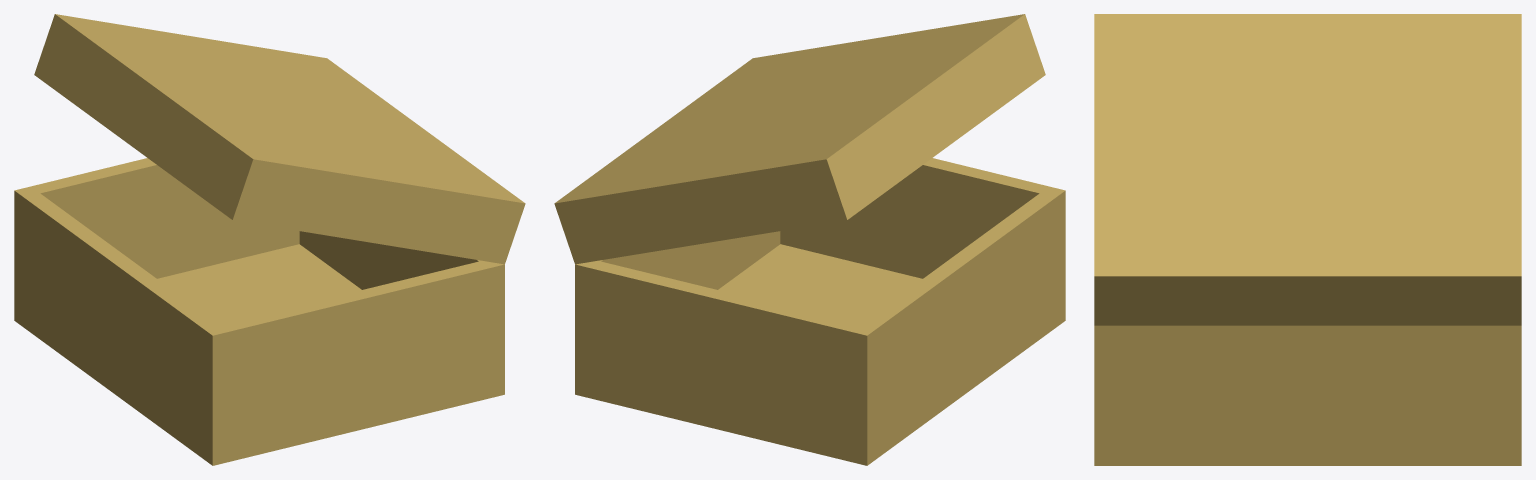
File: SM_JewelleryBox.fbx
3 views of the same model, side by side, from view 1: azimuth 30°, elevation 25°; view 2: azimuth 150°, elevation 25°; view 3: azimuth 270°, elevation 25° (orthographic). The views are drawn at different scales.
Visible parts, largest first — view 1: SM_JewelleryBox; view 2: SM_JewelleryBox; view 3: SM_JewelleryBox.
Part boxes in pixels (x1,y1,x2,y2): SM_JewelleryBox: (14,14,525,465); SM_JewelleryBox: (554,14,1065,465); SM_JewelleryBox: (1094,14,1521,465).
Bounding box in the file's own units: 11.71 × 10.62 × 12.87.
